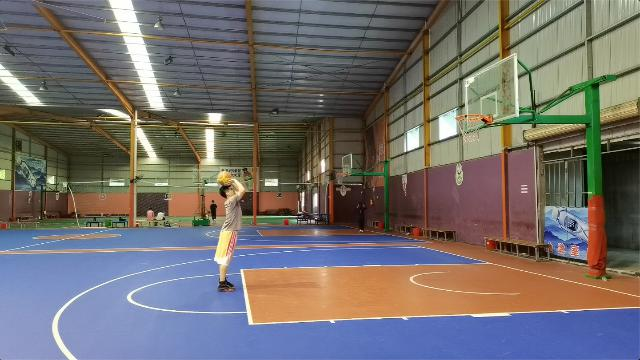ball: (216, 170, 232, 184)
basket: (455, 113, 483, 143)
